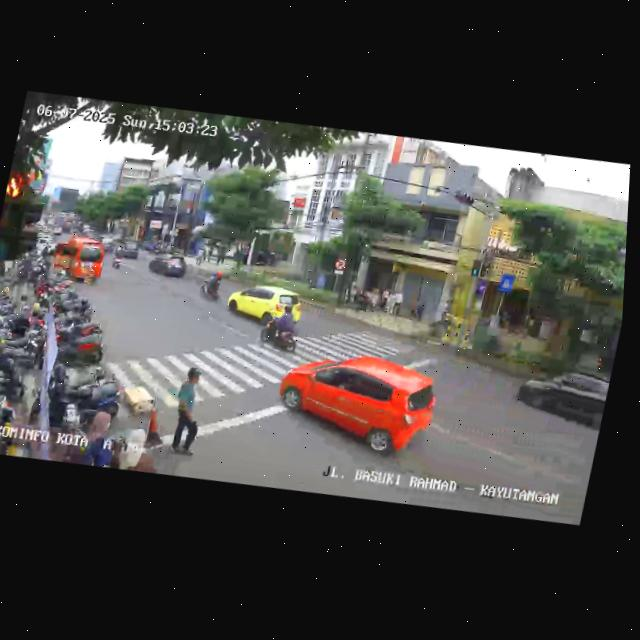car: (266, 344, 443, 474), (512, 357, 612, 441), (221, 277, 307, 334), (46, 235, 108, 290), (144, 250, 190, 286), (113, 240, 143, 261)
motorcycle: (256, 303, 306, 357), (198, 269, 227, 304), (110, 245, 128, 273)
person: (163, 369, 211, 468), (80, 400, 119, 468), (115, 426, 164, 474)
